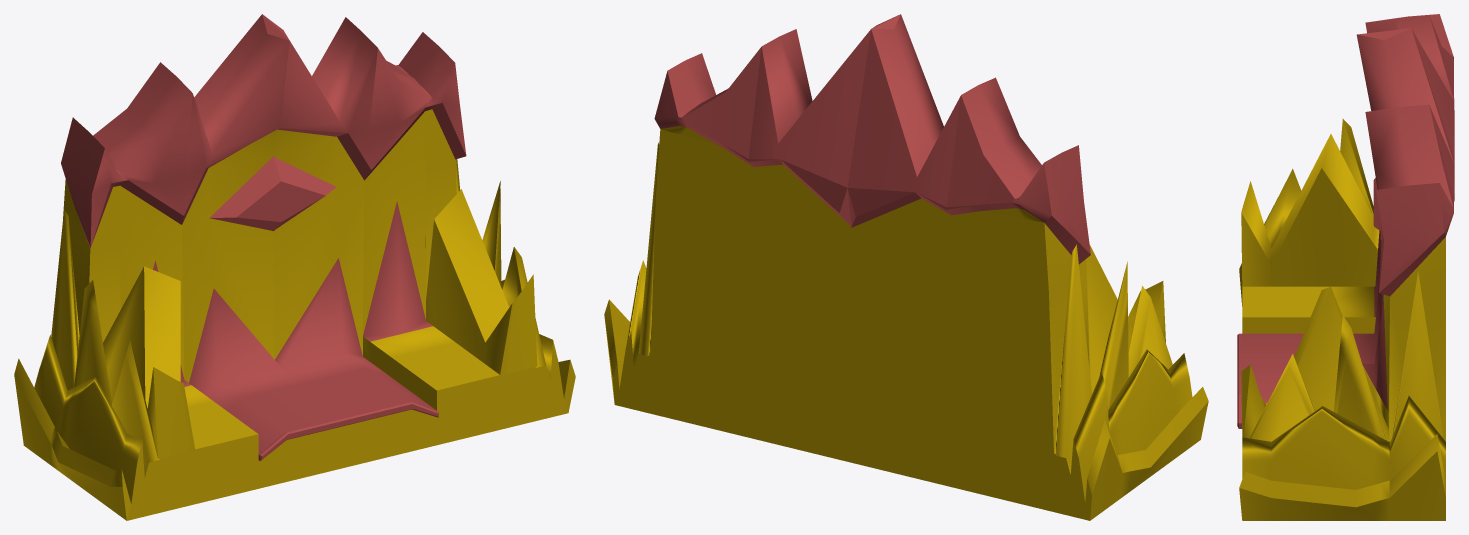
Rendered from Throne.fbx.
3 views of the same model, side by side, from view 1: azimuth 30°, elevation 25°; view 2: azimuth 150°, elevation 25°; view 3: azimuth 270°, elevation 25° (orthographic). The views are drawn at different scales.
Parts seen in each view (by area): view 1: pCube3; view 2: pCube3; view 3: pCube3.
Boxes of the visible parts, x1,y1,x2,y2 form: pCube3: (14, 14, 575, 520); pCube3: (604, 14, 1208, 520); pCube3: (1237, 14, 1454, 520).
Bounding box in the file's own units: 1053 × 837 × 427.
